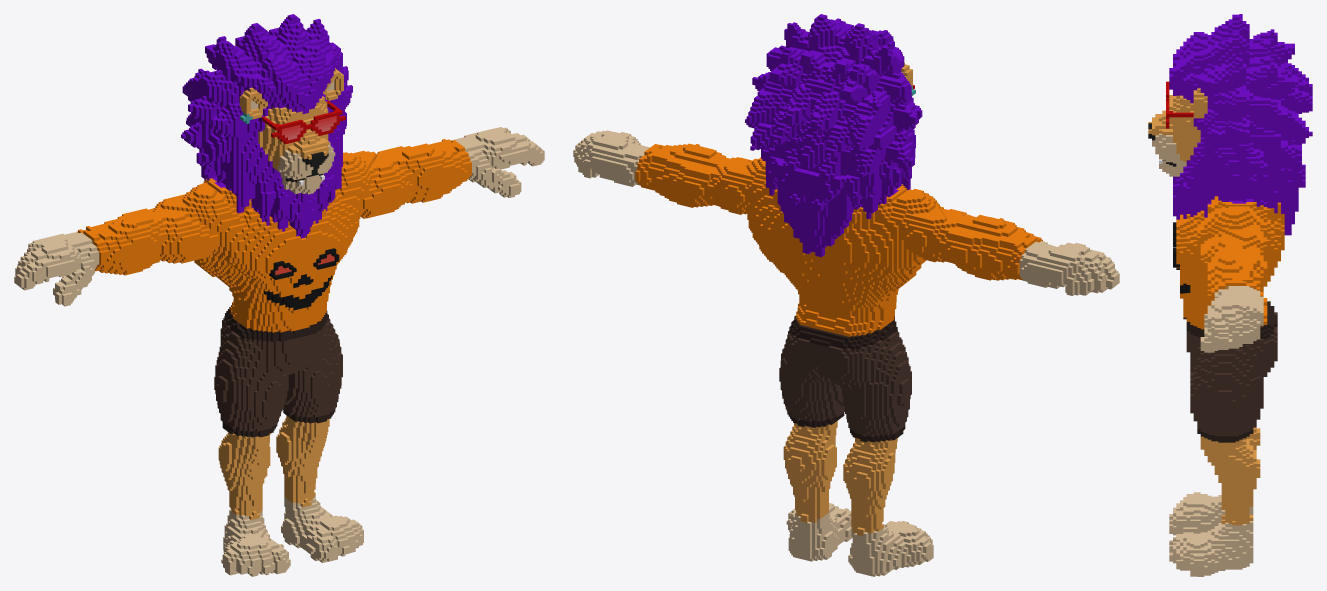
The model's file is 617-DKyCIcwI.glb.
The picture shows the model from 3 angles, left to right: view 1: azimuth 30°, elevation 25°; view 2: azimuth 150°, elevation 25°; view 3: azimuth 270°, elevation 25°; orthographic projection. The views are drawn at different scales.
Parts seen in each view (by area): view 1: standard; view 2: standard; view 3: standard.
Part boxes in pixels (box(x1,y1,x2,y2)): standard: box(14, 14, 544, 576); standard: box(573, 14, 1119, 576); standard: box(1148, 14, 1312, 576).
Bounding box in the file's own units: 17.2 × 16.5 × 4.7.
Materials: 6 (6 with a texture image).
